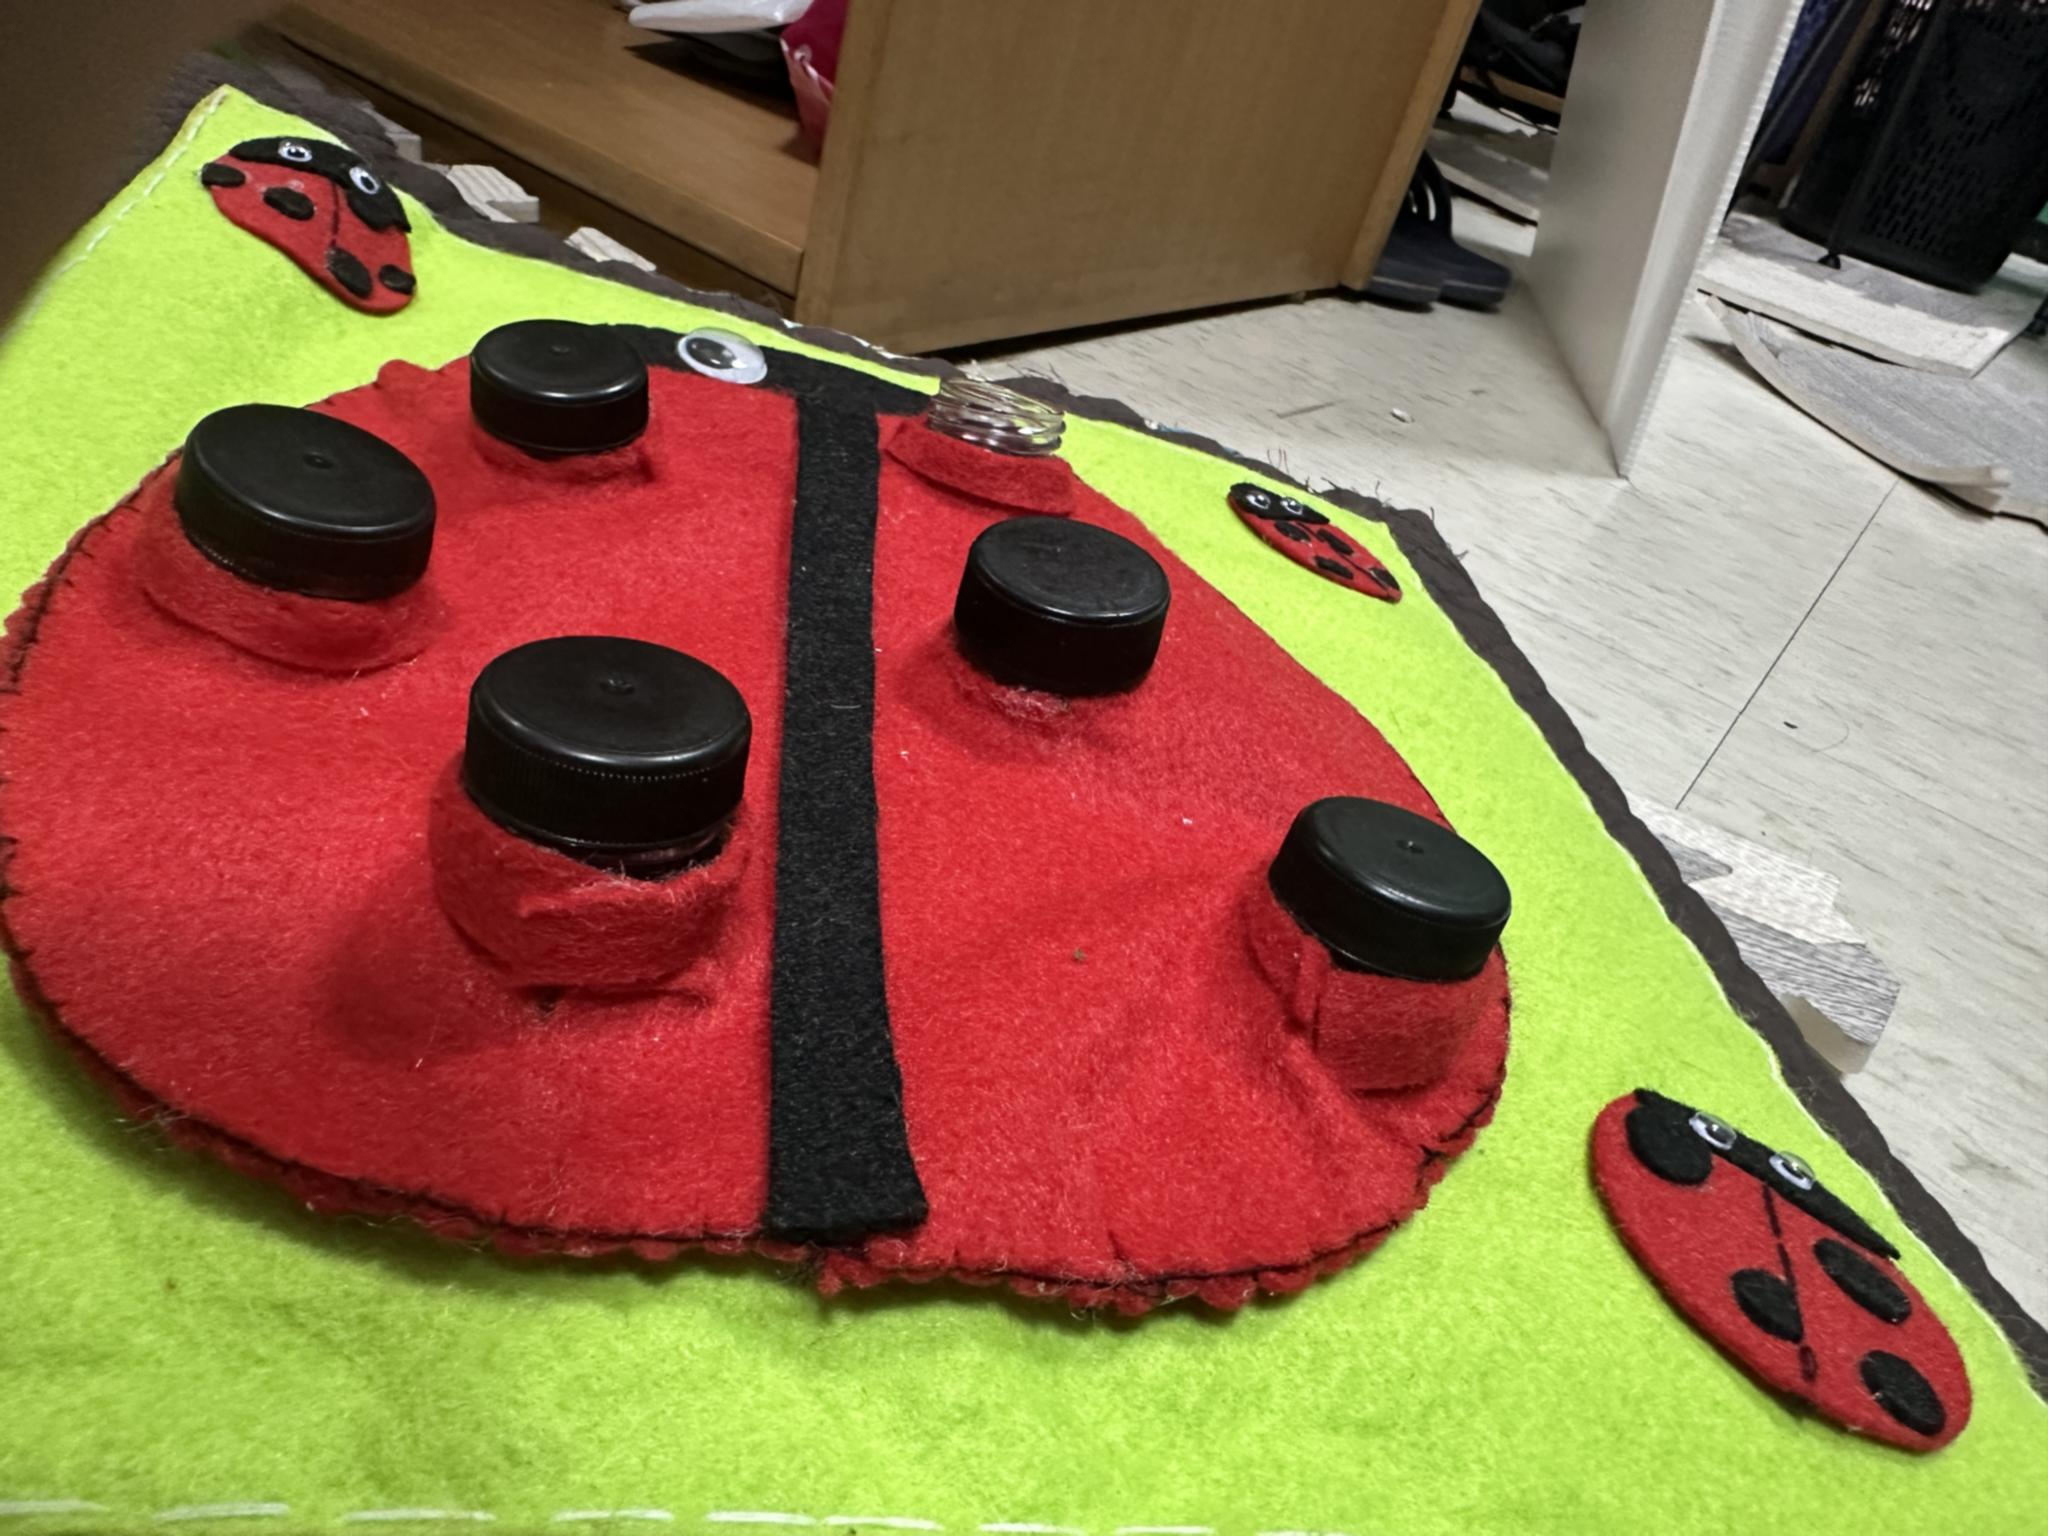cap_ok: (434, 628, 768, 1007), (1227, 763, 1545, 1112), (123, 397, 447, 699), (939, 507, 1192, 733), (450, 313, 692, 507)
